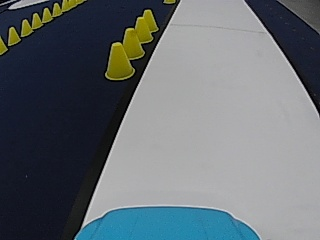cone: (104, 41, 134, 79), (121, 27, 144, 59), (132, 16, 152, 42), (140, 8, 158, 32), (7, 26, 20, 45), (20, 18, 33, 36), (31, 12, 42, 28), (41, 7, 52, 22), (0, 35, 8, 54), (52, 2, 61, 16)
